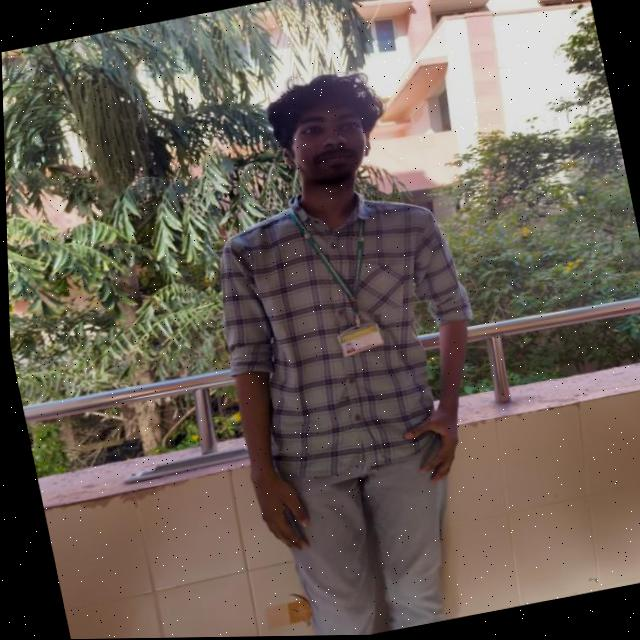id_card: (290, 198, 395, 368)
